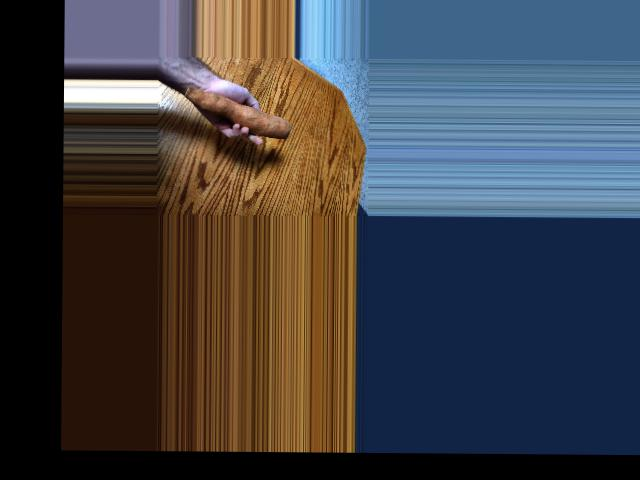sweet_potato: (184, 85, 287, 132)
